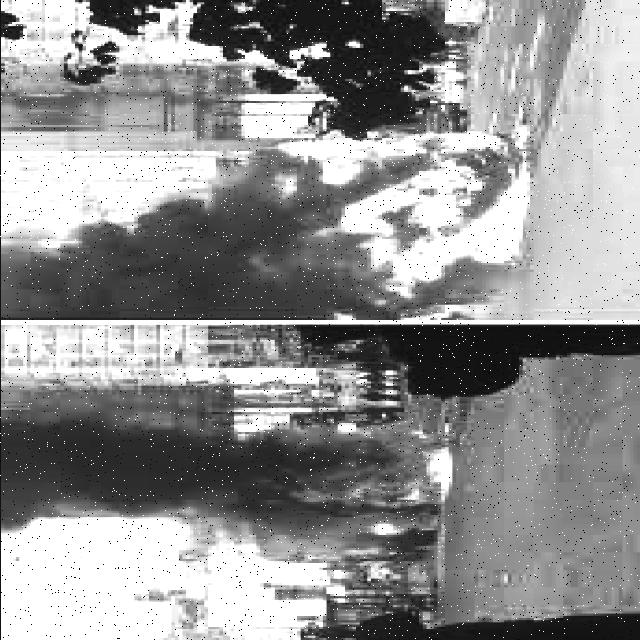api: (264, 113, 526, 311), (256, 398, 467, 560)
